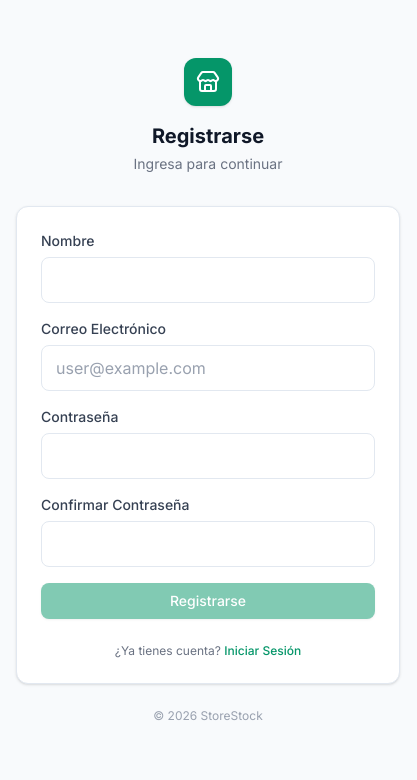
RegisterPage › mantiene el botón deshabilitado hasta cumplir todos los requisitos
Expected: the button "Registrarse" is disabled, [41,583,375,619]
Type "abc" into the 1st password field at (208, 456), box [41,433,375,479]
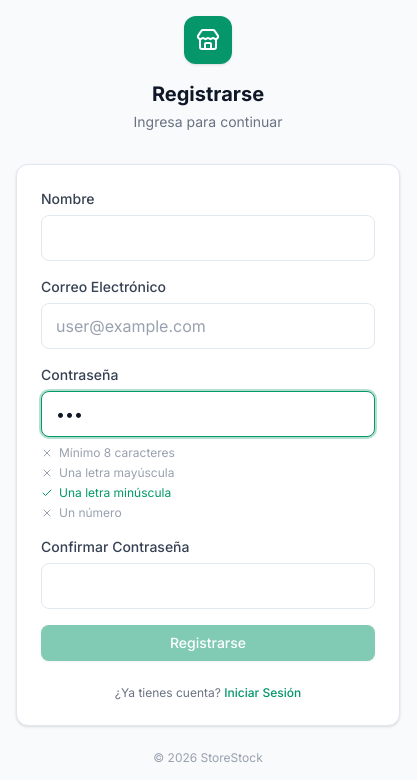
Expected: the button "Registrarse" is disabled, [41,625,375,661]
Expected: the text "Mínimo 8 caracteres" is shown, [59,445,175,461]
